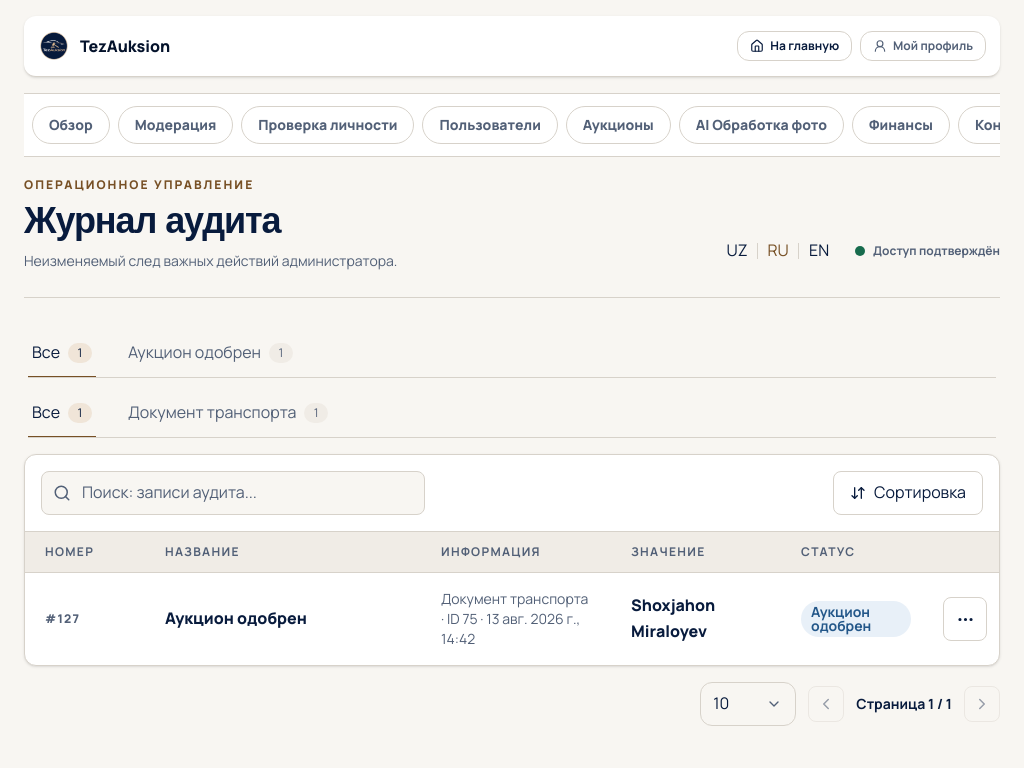
Test case: AdminRouter access and production integrity › localizes audit action and entity enums in filters, rows, and details
Check: the 1st text "Аукцион одобрен" is shown, box left=128, top=340, right=261, bottom=366
Check: the text "Документ транспорта" is shown, box left=128, top=400, right=296, bottom=426
Click the row named "Открыть детали: Аукцион одобрен".
click(512, 619)  # box left=25, top=572, right=999, bottom=665
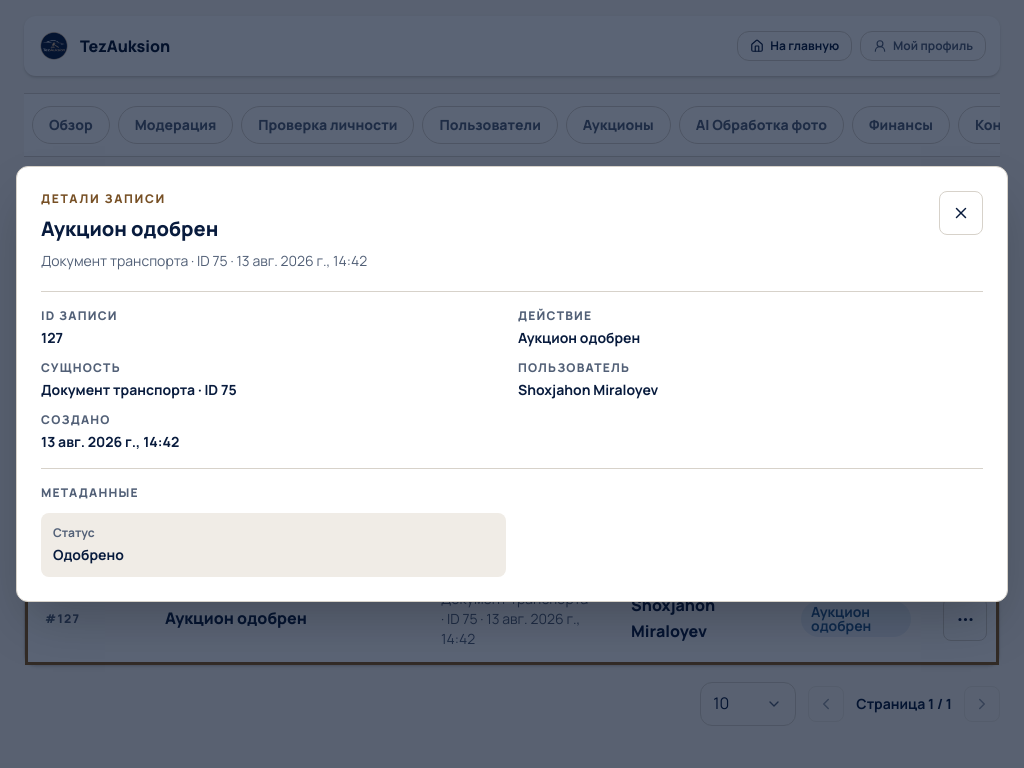
Check: the heading "Аукцион одобрен" is shown, box left=41, top=215, right=218, bottom=242
Check: the text "Документ транспорта · ID 75 · 13 авг. 2026 г., 14:42" is shown 2 times, box left=41, top=251, right=367, bottom=271; left=41, top=380, right=237, bottom=399
Check: the text "Одобрено" is shown, box left=53, top=545, right=124, bottom=564
